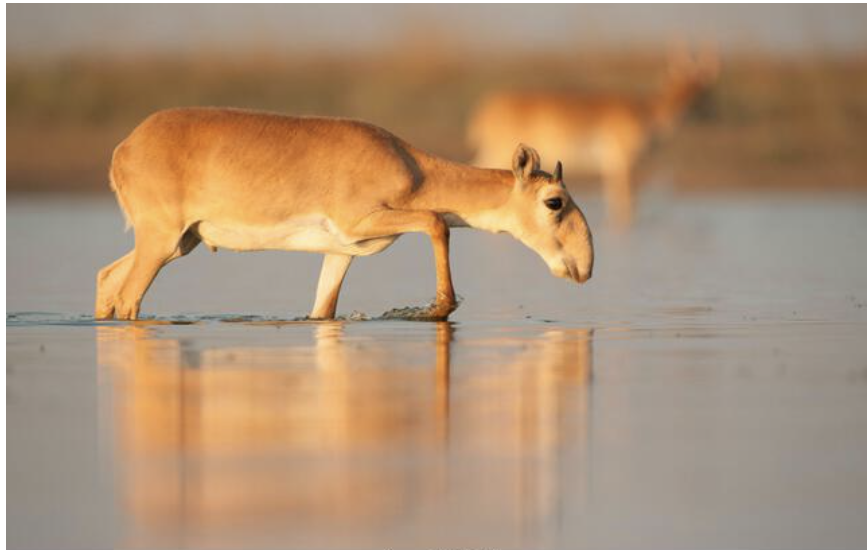saiga: (88, 96, 598, 338)
